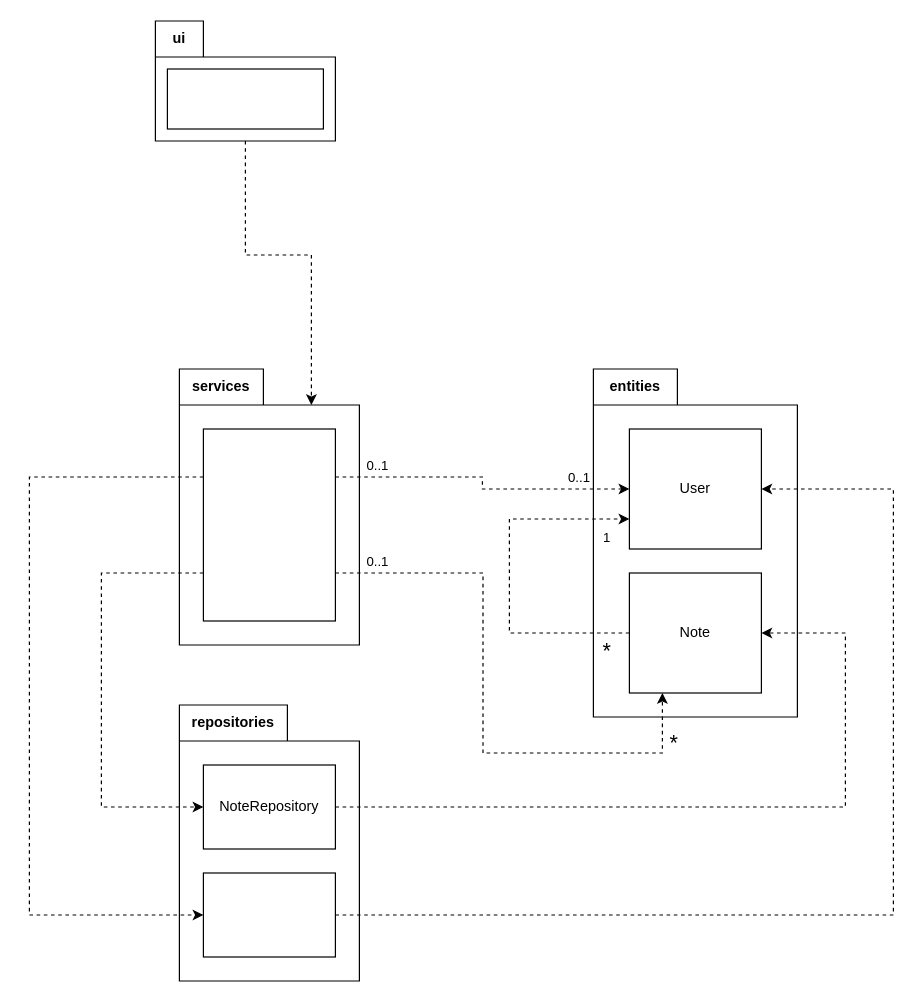
The diagram is 924 pixels wide and 1002 high, and some of its shapes have lost their labels. Here are the shapes that lost their labels. From the top down, the centre of each, then its label:
point 244,98: Many View Classes
point 268,524: CalendarService
point 268,914: UserRepository
